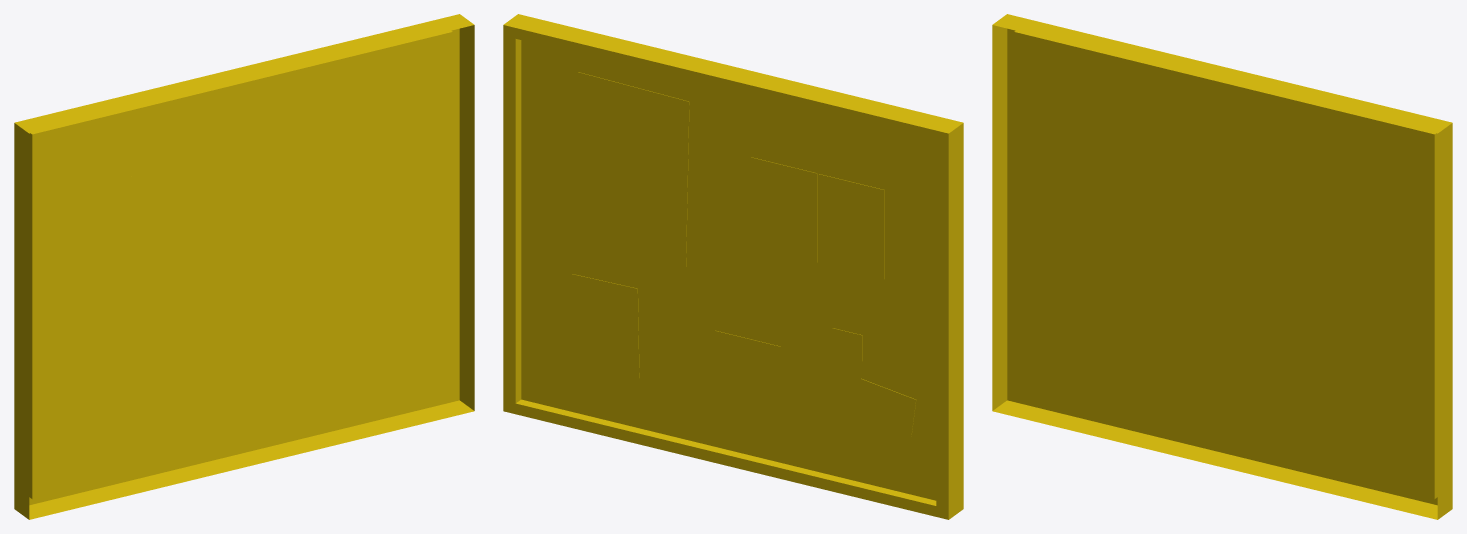
File: Board.fbx
The picture shows the model from 3 angles, left to right: view 1: azimuth 30°, elevation 25°; view 2: azimuth 150°, elevation 25°; view 3: azimuth 330°, elevation 25°; orthographic projection.
Visible parts, largest first — view 1: monthly schedule 2.001; view 2: monthly schedule 2.001; view 3: monthly schedule 2.001.
Boxes of the visible parts, x1,y1,x2,y2 form: monthly schedule 2.001: (14, 14, 474, 519); monthly schedule 2.001: (503, 14, 963, 519); monthly schedule 2.001: (992, 14, 1452, 519).
Size of the model in its own units: 207 by 171 by 12.
